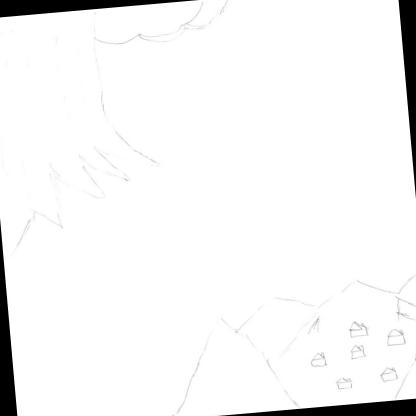crown_cloud: (0, 0, 242, 54)
trunk_straight: (0, 41, 125, 126)
